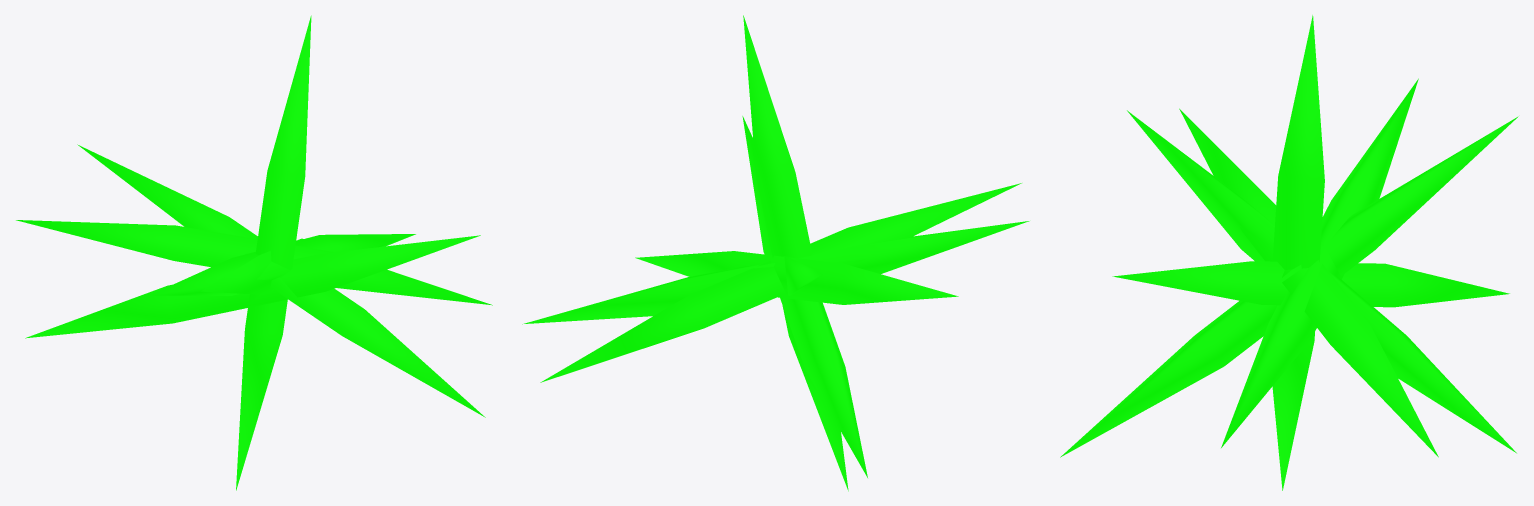
Rendered from GreenSpark.glb.
3 renders of one model, left to right at view 1: azimuth 30°, elevation 25°; view 2: azimuth 150°, elevation 25°; view 3: azimuth 270°, elevation 25°, orthographic. The views are drawn at different scales.
Visible parts, largest first — view 1: Spark; view 2: Spark; view 3: Spark.
Boxes of the visible parts, x1,y1,x2,y2 form: Spark: [16, 15, 492, 490]; Spark: [522, 15, 1029, 491]; Spark: [1060, 15, 1518, 490].
Bounding box in the file's own units: 0.2118 × 0.22 × 0.1735.
